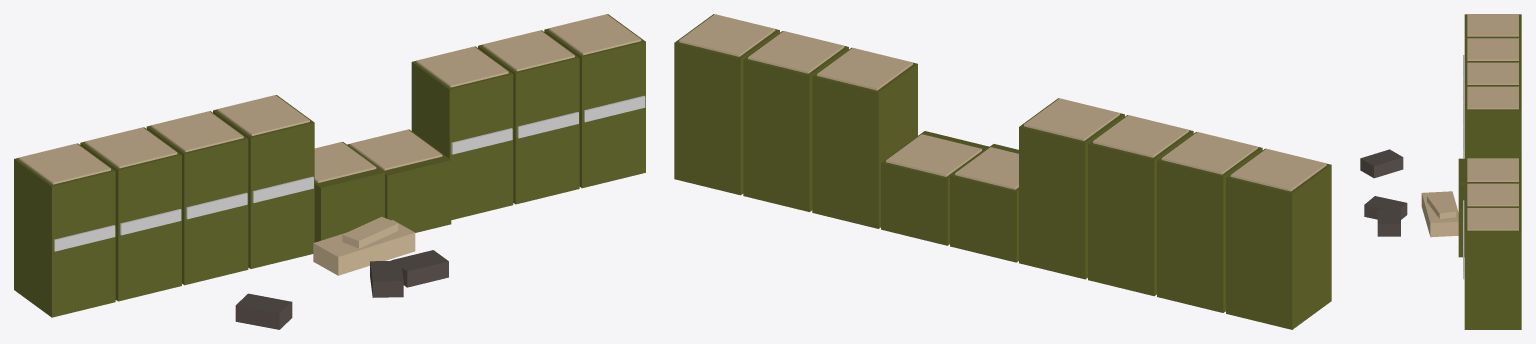
The model's file is SM_MuroHesco_v1_Geotextil_e1_Danado_LOD1.fbx.
The picture shows the model from 3 angles, left to right: view 1: azimuth 30°, elevation 25°; view 2: azimuth 150°, elevation 25°; view 3: azimuth 270°, elevation 25°; orthographic projection. The views are drawn at different scales.
Parts seen in each view (by area): view 1: SM_bloques.muro_hesco_estados_v5_LOD1; view 2: SM_bloques.muro_hesco_estados_v5_LOD1; view 3: SM_bloques.muro_hesco_estados_v5_LOD1.
Part boxes in pixels (box(x1,y1,x2,y2)): SM_bloques.muro_hesco_estados_v5_LOD1: box(14, 14, 645, 329); SM_bloques.muro_hesco_estados_v5_LOD1: box(674, 14, 1331, 329); SM_bloques.muro_hesco_estados_v5_LOD1: box(1360, 14, 1521, 329).
Size of the model in its own units: 9.96 by 2.13 by 3.12.
